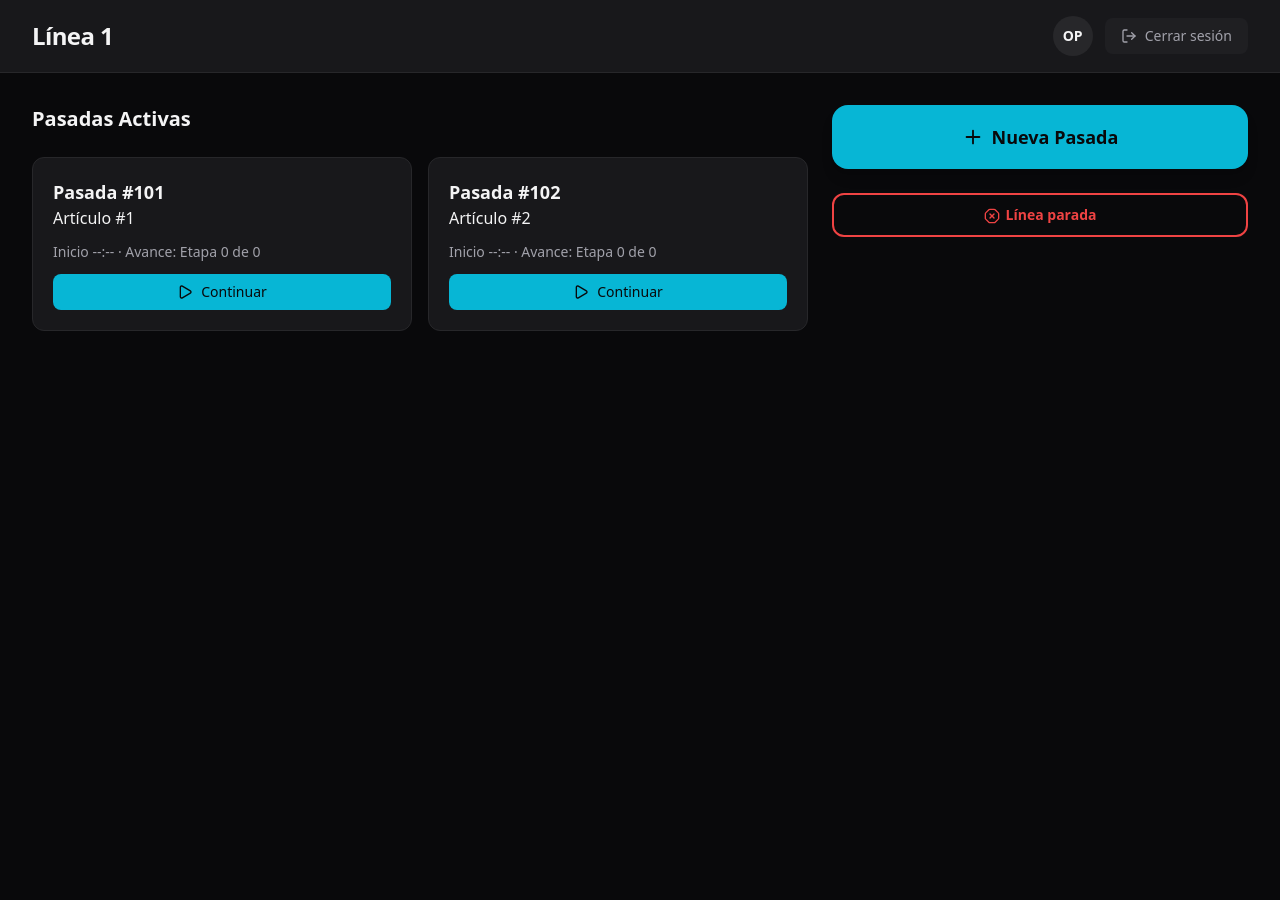
Test: GestionPasadasPage › muestra el aviso desde que se elige una balanza con verificación pendiente, sin intentar iniciar
This screenshot has width=1280, height=900.
Click the button "Nueva Pasada" at [1040, 137], box [832,105,1248,169]
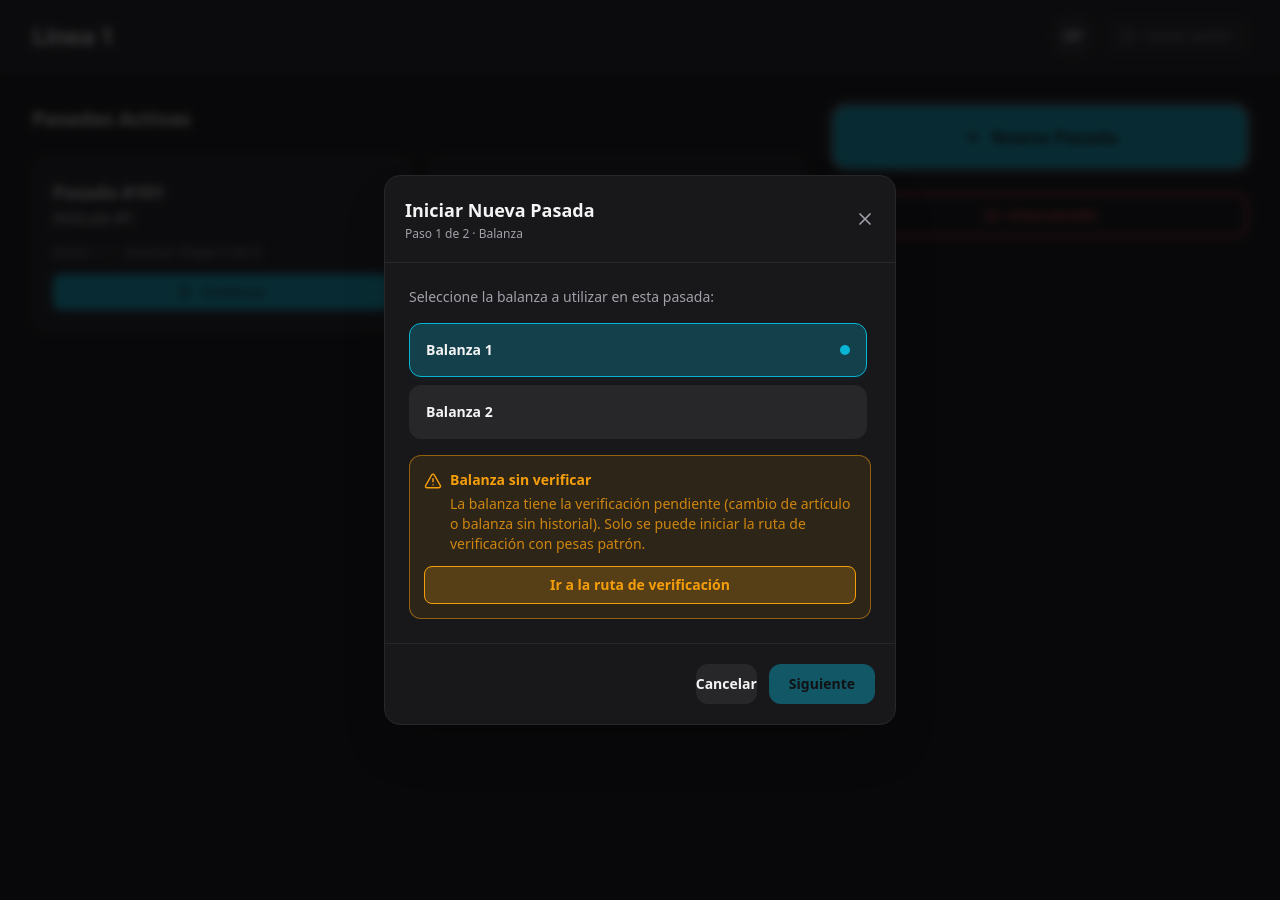
Now the element with test id "balanza-sin-verificar" is shown, box [409,455,871,619]
Now the button "Siguiente" is disabled, box [769,664,875,704]
Switching to a verified balanza removes the notice and re-enables the normal flow
Click the button "Balanza 2" at [459, 412], box [409,385,867,439]
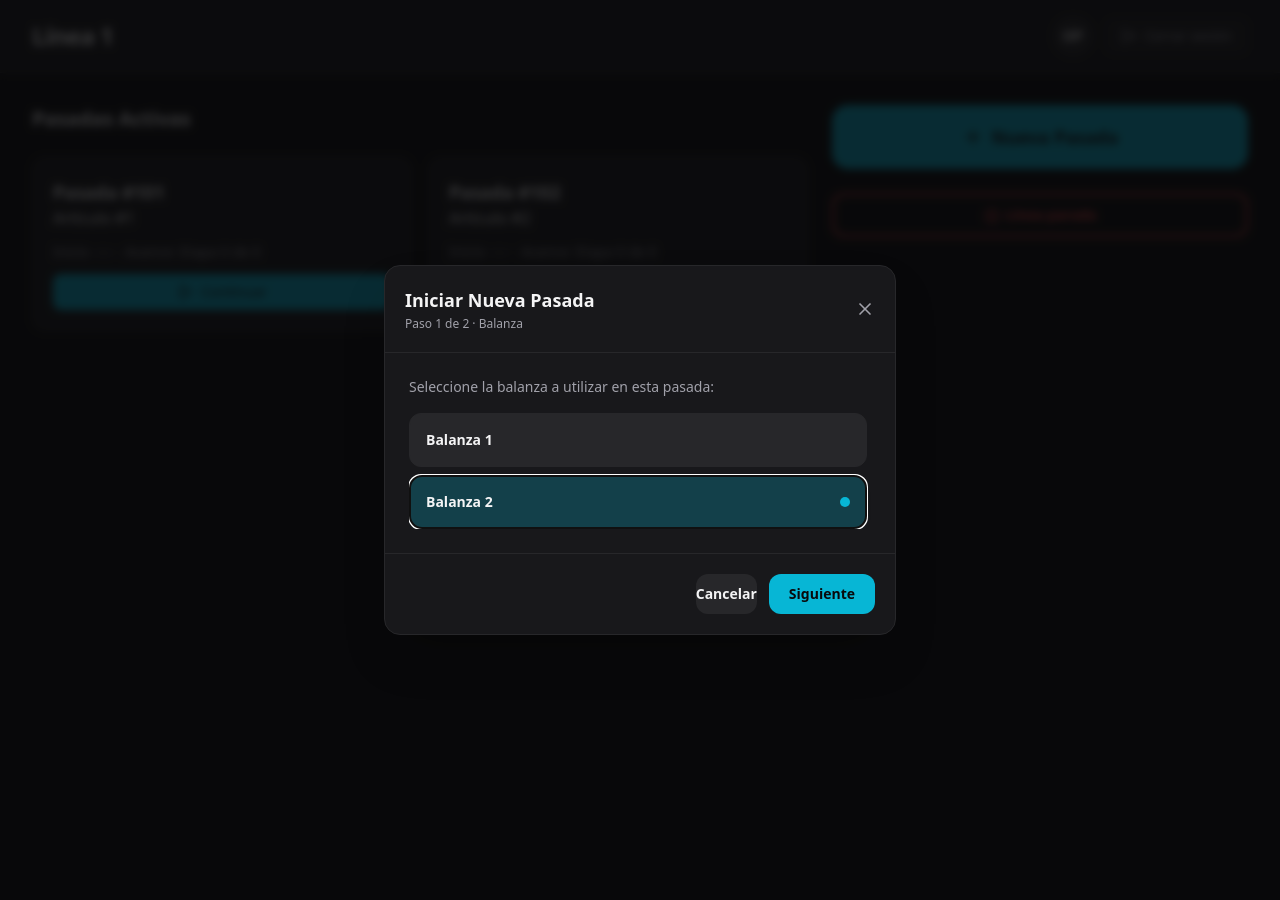
Now the element with test id "balanza-sin-verificar" is gone
Now the button "Siguiente" is enabled, box [769,574,875,614]
